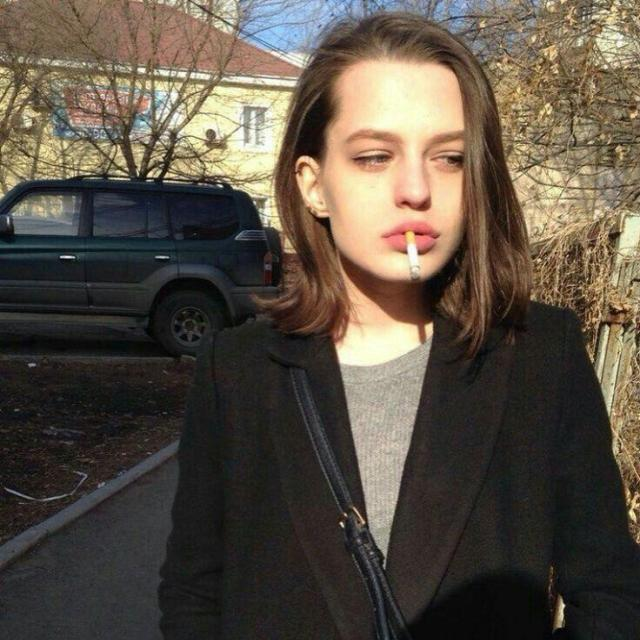cigarette: (400, 224, 423, 290)
